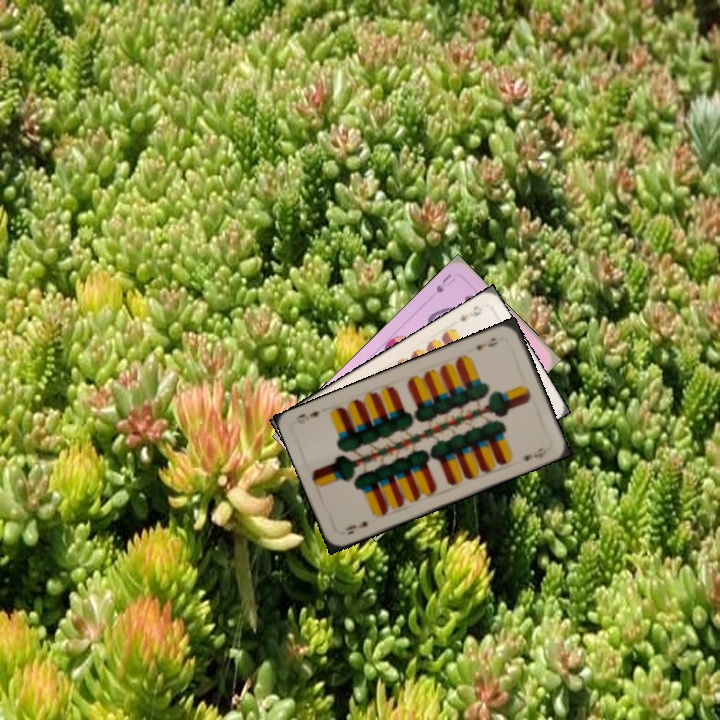E9: (455, 301, 485, 324), (472, 333, 501, 353), (341, 517, 370, 537)
SU: (432, 269, 458, 295)
